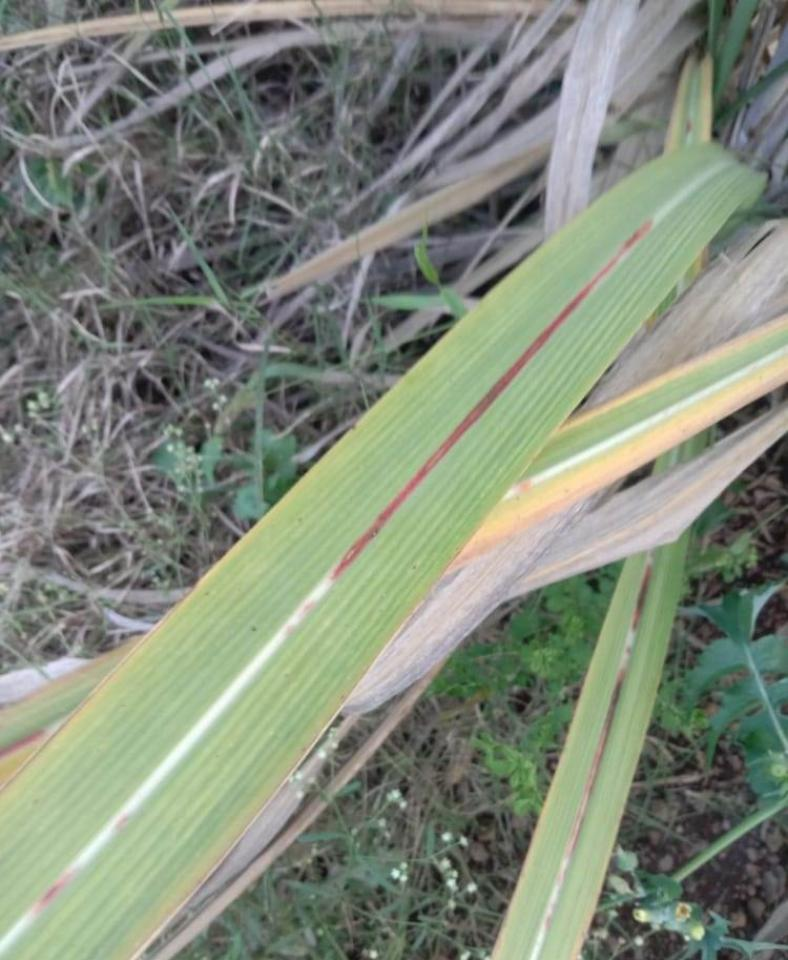RedRot: (328, 216, 656, 581), (544, 670, 624, 928), (31, 867, 77, 914), (631, 552, 655, 632), (282, 600, 316, 634), (115, 815, 132, 832), (516, 480, 534, 492), (624, 645, 632, 656)
Yellow: (446, 352, 788, 572), (556, 311, 788, 436)
